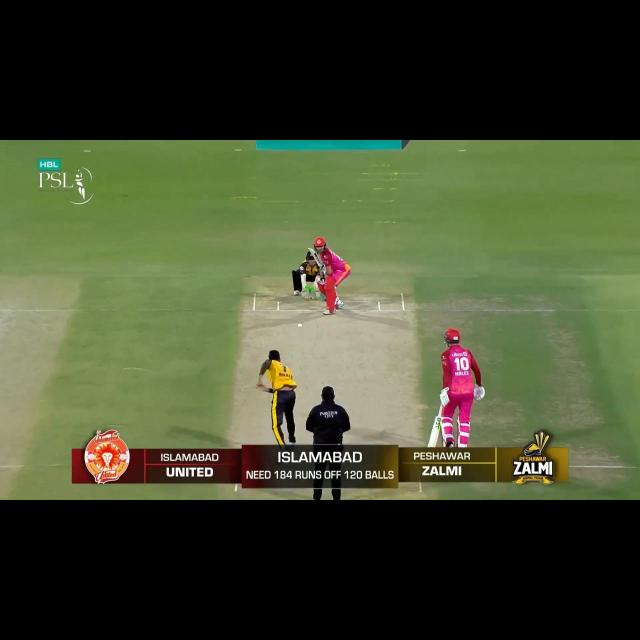bat: (426, 417, 444, 446), (307, 248, 322, 266)
toe: (427, 441, 437, 447), (307, 246, 314, 254)
